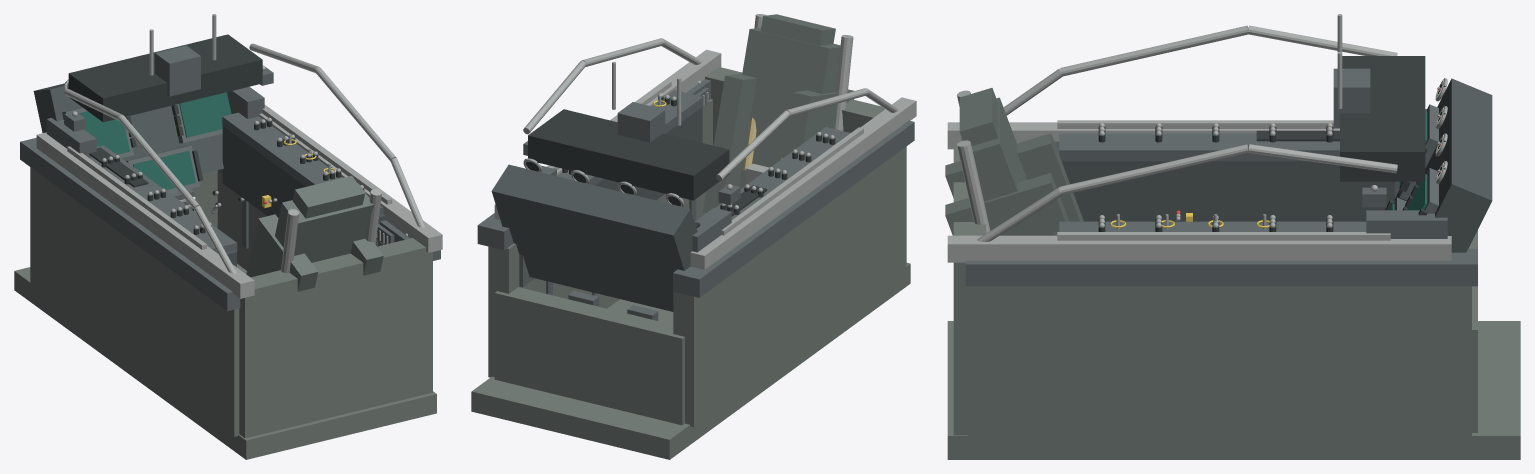
File: cockpit.glb
3 renders of one model, left to right at view 1: azimuth 30°, elevation 25°; view 2: azimuth 150°, elevation 25°; view 3: azimuth 270°, elevation 25°, orthographic. The views are drawn at different scales.
Parts seen in each view (by area): view 1: Cockpit floor pan_001, Left cockpit upper sill_005, Left canopy rail_006, Left multifunction display bezel key -1 0_070, Seat cushion_043, Left sidewall access panel 0_011, Left multifunction display glass_060; view 2: Cockpit floor pan_001, Left sidewall access panel 0_011, Left cockpit upper sill_005, Left canopy rail_006, Seat cushion_043, Left multifunction display bezel key -1 0_070; view 3: Cockpit floor pan_001, Left canopy rail_006, Left cockpit upper sill_005, Left sidewall access panel 0_011, Left multifunction display bezel key -1 0_070, Seat cushion_043, Left multifunction display glass_060.
Part boxes in pixels (<box>): Cockpit floor pan_001: <box>14,167,436,459</box>; Left cockpit upper sill_005: <box>20,45,440,311</box>; Left canopy rail_006: <box>36,14,442,298</box>; Left multifunction display bezel key -1 0_070: <box>64,34,364,234</box>; Seat cushion_043: <box>246,175,383,291</box>; Left sidewall access panel 0_011: <box>33,83,385,266</box>; Left multifunction display glass_060: <box>79,92,231,189</box>; Cockpit floor pan_001: <box>471,67,910,459</box>; Left sidewall access panel 0_011: <box>491,107,702,311</box>; Left cockpit upper sill_005: <box>477,79,914,320</box>; Left canopy rail_006: <box>494,14,916,269</box>; Seat cushion_043: <box>702,14,853,212</box>; Left multifunction display bezel key -1 0_070: <box>524,96,835,227</box>; Cockpit floor pan_001: <box>947,144,1520,459</box>; Left canopy rail_006: <box>947,14,1451,262</box>; Left cockpit upper sill_005: <box>965,68,1477,286</box>; Left sidewall access panel 0_011: <box>1053,78,1492,252</box>; Left multifunction display bezel key -1 0_070: <box>1098,56,1445,231</box>; Seat cushion_043: <box>945,88,1083,235</box>; Left multifunction display glass_060: <box>1389,110,1427,210</box>.
Bounding box in the file's own units: 1.5 × 2 × 2.83.
